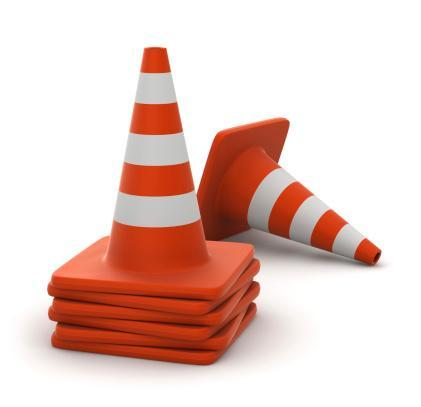Cone: (50, 46, 258, 368), (199, 117, 383, 265)
